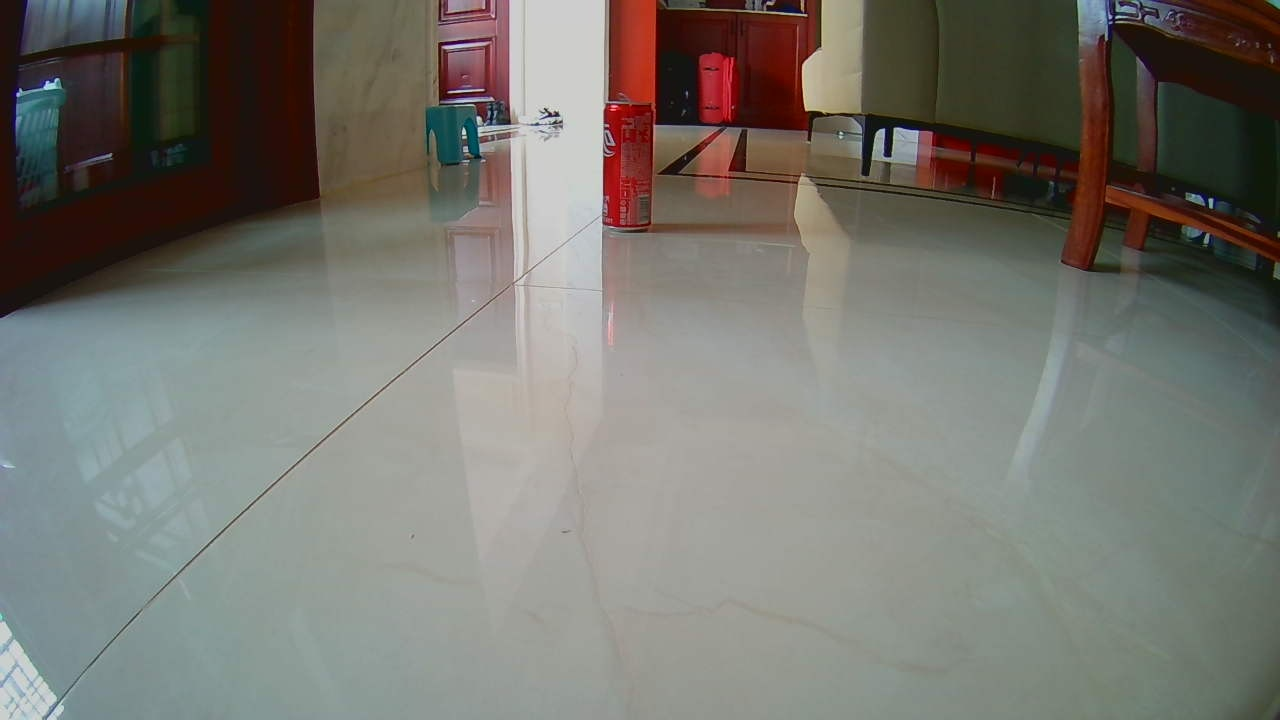cola: (600, 96, 655, 232)
